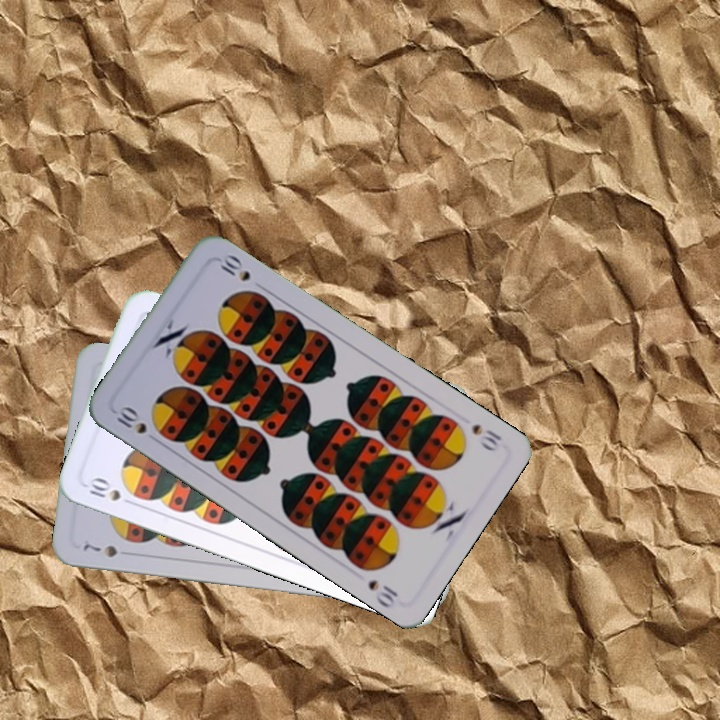S10: (110, 401, 150, 437), (467, 420, 505, 454), (83, 473, 124, 504)
S7: (79, 540, 120, 560)
